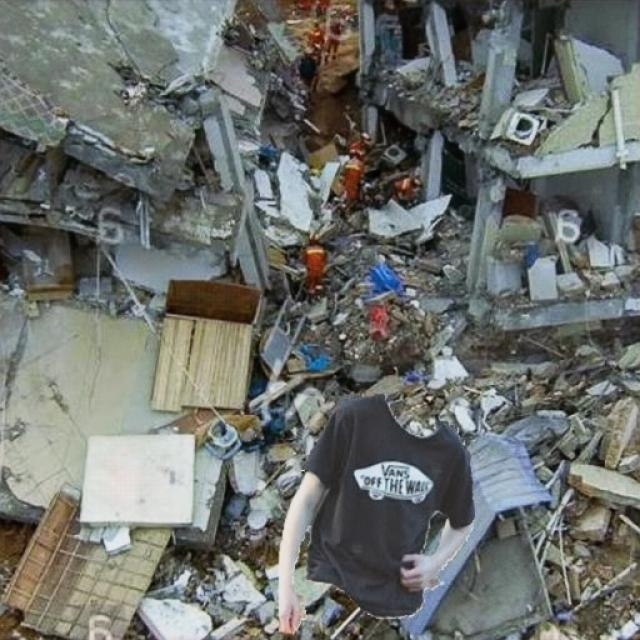Person in Rubble: (278, 394, 474, 634)
